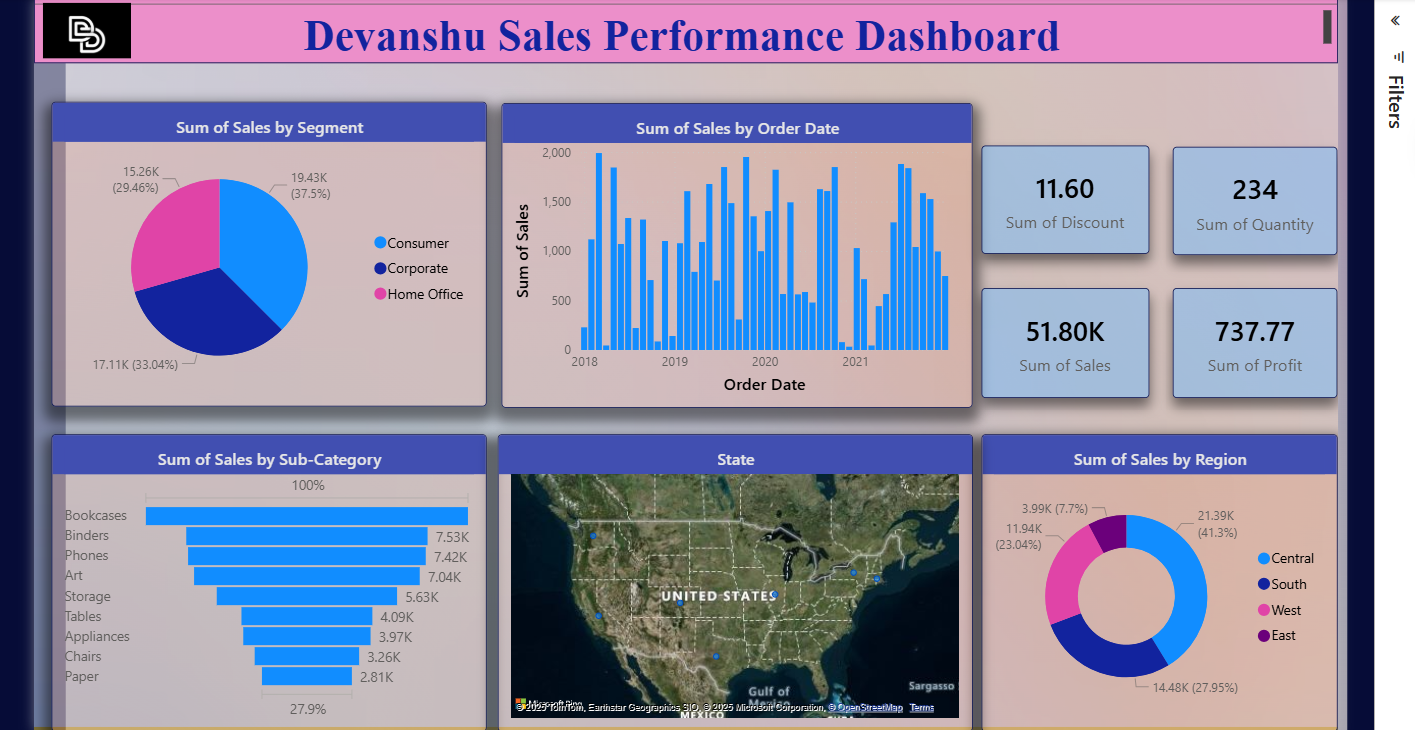

What the dashboard file says about the page in this screenshot:
{"tool":"powerbi","page":{"name":"Page 1","canvas":[1280,720],"ordinal":0},"visuals":[{"type":"donutChart","fields":{"Category":["Sample_Sales_Dataset.Region"],"Y":["Sum(Sample_Sales_Dataset.Sales)"]},"box":[930.1,428.2,349.7,292],"z":0},{"type":"funnel","fields":{"Category":["Sample_Sales_Dataset.Sub-Category"],"Y":["Sum(Sample_Sales_Dataset.Sales)"]},"box":[17.2,428.2,427,292],"z":1000},{"type":"map","fields":{"Category":["Sample_Sales_Dataset.State"]},"box":[455.2,428.2,466.3,292],"z":2000},{"type":"pieChart","fields":{"Category":["Sample_Sales_Dataset.Segment"],"Y":["Sum(Sample_Sales_Dataset.Sales)"]},"box":[17.2,101.8,427,299.4],"z":3000},{"type":"clusteredColumnChart","fields":{"Category":["Sample_Sales_Dataset.Order Date"],"Y":["Sum(Sample_Sales_Dataset.Sales)"]},"box":[458.9,103.1,462.6,299.4],"z":4000},{"type":"card","fields":{"Values":["Sum(Sample_Sales_Dataset.Sales)"]},"box":[930.1,284.7,164.4,108],"z":5000},{"type":"card","fields":{"Values":["Sum(Sample_Sales_Dataset.Discount)"]},"box":[930.1,144.8,164.4,106.7],"z":6000},{"type":"card","fields":{"Values":["Sum(Sample_Sales_Dataset.Profit)"]},"box":[1117.8,284.7,162,108],"z":7000},{"type":"card","fields":{"Values":["Sum(Sample_Sales_Dataset.Quantity)"]},"box":[1117.8,146,162,106.7],"z":8000},{"type":"textbox","box":[0,0,1279.8,63.8],"z":9000},{"type":"image","box":[0,0,104.3,63.8],"z":10000}]}

Visuals, with their boxes in screenshot pixels (x1, y1, x2, y2):
donutChart - Sample_Sales_Dataset.Region x Sum(Sample_Sales_Dataset.Sales): (left=978, top=433, right=1341, bottom=729)
funnel - Sample_Sales_Dataset.Sub-Category x Sum(Sample_Sales_Dataset.Sales): (left=33, top=433, right=475, bottom=729)
map - Sample_Sales_Dataset.State: (left=486, top=433, right=969, bottom=729)
pieChart - Sample_Sales_Dataset.Segment x Sum(Sample_Sales_Dataset.Sales): (left=33, top=94, right=475, bottom=405)
clusteredColumnChart - Sample_Sales_Dataset.Order Date x Sum(Sample_Sales_Dataset.Sales): (left=490, top=96, right=969, bottom=406)
card - Sum(Sample_Sales_Dataset.Sales): (left=978, top=284, right=1149, bottom=396)
card - Sum(Sample_Sales_Dataset.Discount): (left=978, top=139, right=1149, bottom=250)
card - Sum(Sample_Sales_Dataset.Profit): (left=1173, top=284, right=1341, bottom=396)
card - Sum(Sample_Sales_Dataset.Quantity): (left=1173, top=140, right=1341, bottom=251)
textbox: (left=15, top=0, right=1341, bottom=55)
image: (left=15, top=0, right=123, bottom=55)
